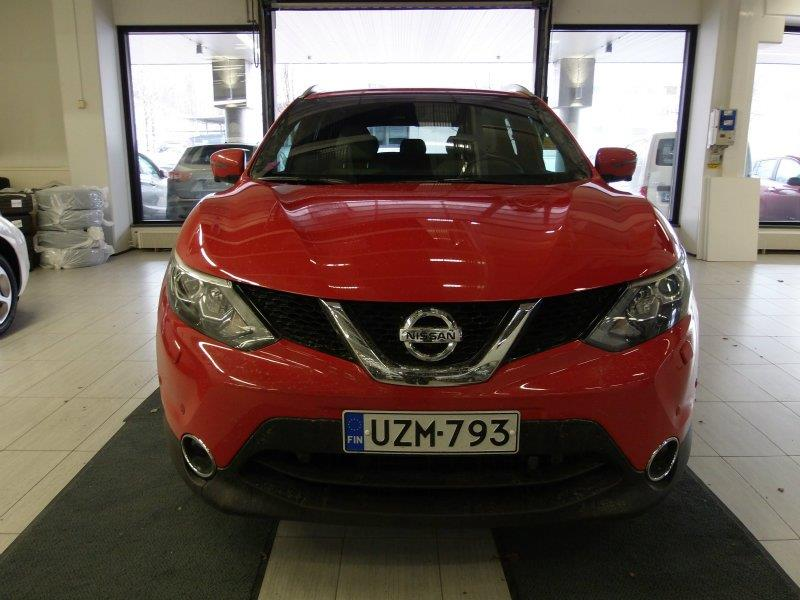license: (340, 409, 520, 457)
